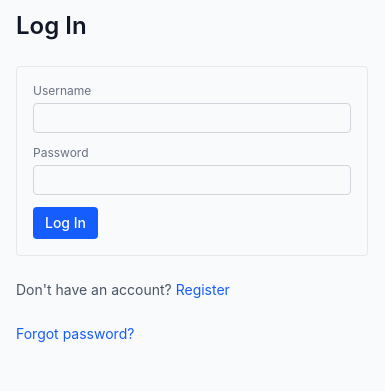
Scenario: LoginPage › shows a validation error when fields are empty
The image size is (385, 391).
Click the button "Log In" at coordinates (66, 223), box 33,207 -> 98,239
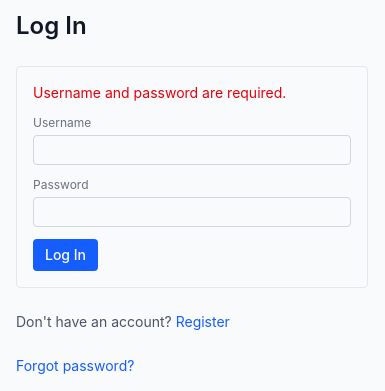
Result: the text "Username and password are required." is shown at 33,84 -> 286,101
